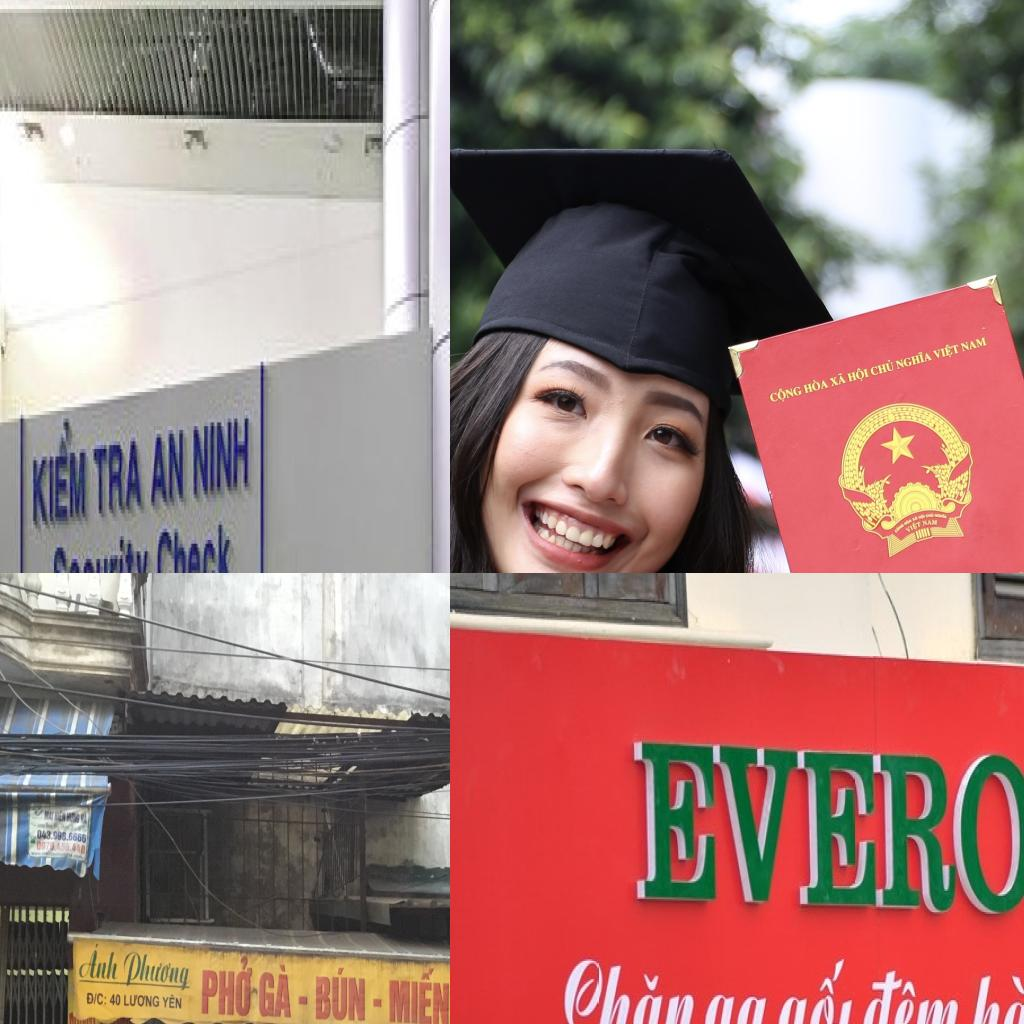text: (632, 724, 1024, 920), (560, 956, 705, 1024), (30, 415, 88, 532), (856, 967, 973, 1024), (774, 954, 864, 1024), (191, 415, 250, 502), (48, 532, 154, 573), (94, 438, 148, 517), (155, 521, 234, 573), (388, 965, 449, 1024), (201, 953, 253, 1017), (150, 426, 187, 514), (120, 950, 193, 991), (966, 974, 1024, 1024), (316, 966, 366, 1022), (698, 993, 777, 1024), (258, 962, 292, 1018), (77, 942, 122, 982), (893, 349, 935, 372), (766, 382, 804, 406), (37, 829, 87, 844), (37, 841, 86, 855), (930, 341, 961, 362), (801, 376, 830, 396), (869, 358, 896, 378), (959, 336, 989, 354), (124, 994, 160, 1008), (846, 366, 871, 386), (826, 371, 848, 389), (161, 994, 183, 1010), (86, 992, 107, 1006), (903, 520, 923, 534), (67, 811, 80, 824), (892, 523, 906, 535), (68, 1010, 80, 1024), (920, 519, 938, 527), (54, 810, 66, 822), (109, 994, 121, 1006), (44, 808, 55, 820), (934, 513, 948, 520), (902, 518, 914, 526), (80, 812, 87, 824), (925, 512, 935, 519), (918, 513, 926, 521), (73, 854, 83, 860), (30, 851, 42, 856), (41, 852, 53, 857), (911, 515, 919, 522)
